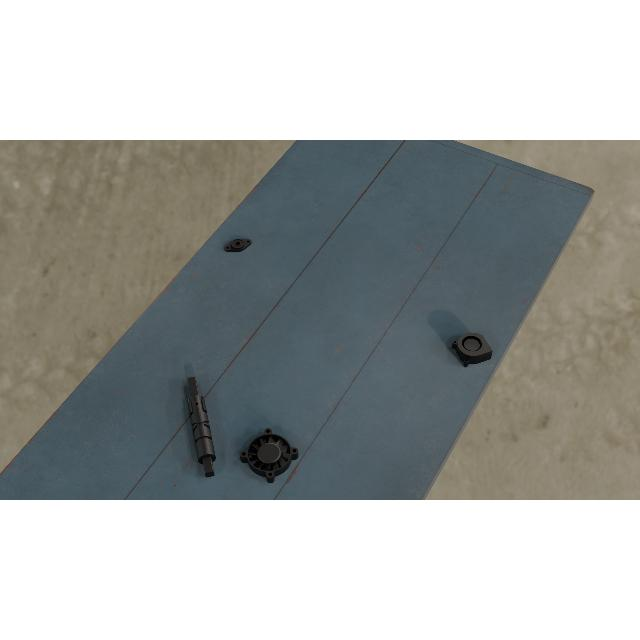Pieza1: (182, 373, 220, 481)
Pieza2: (222, 234, 254, 256)
Pieza3: (451, 329, 494, 369)
Pieza4: (238, 426, 300, 486)
